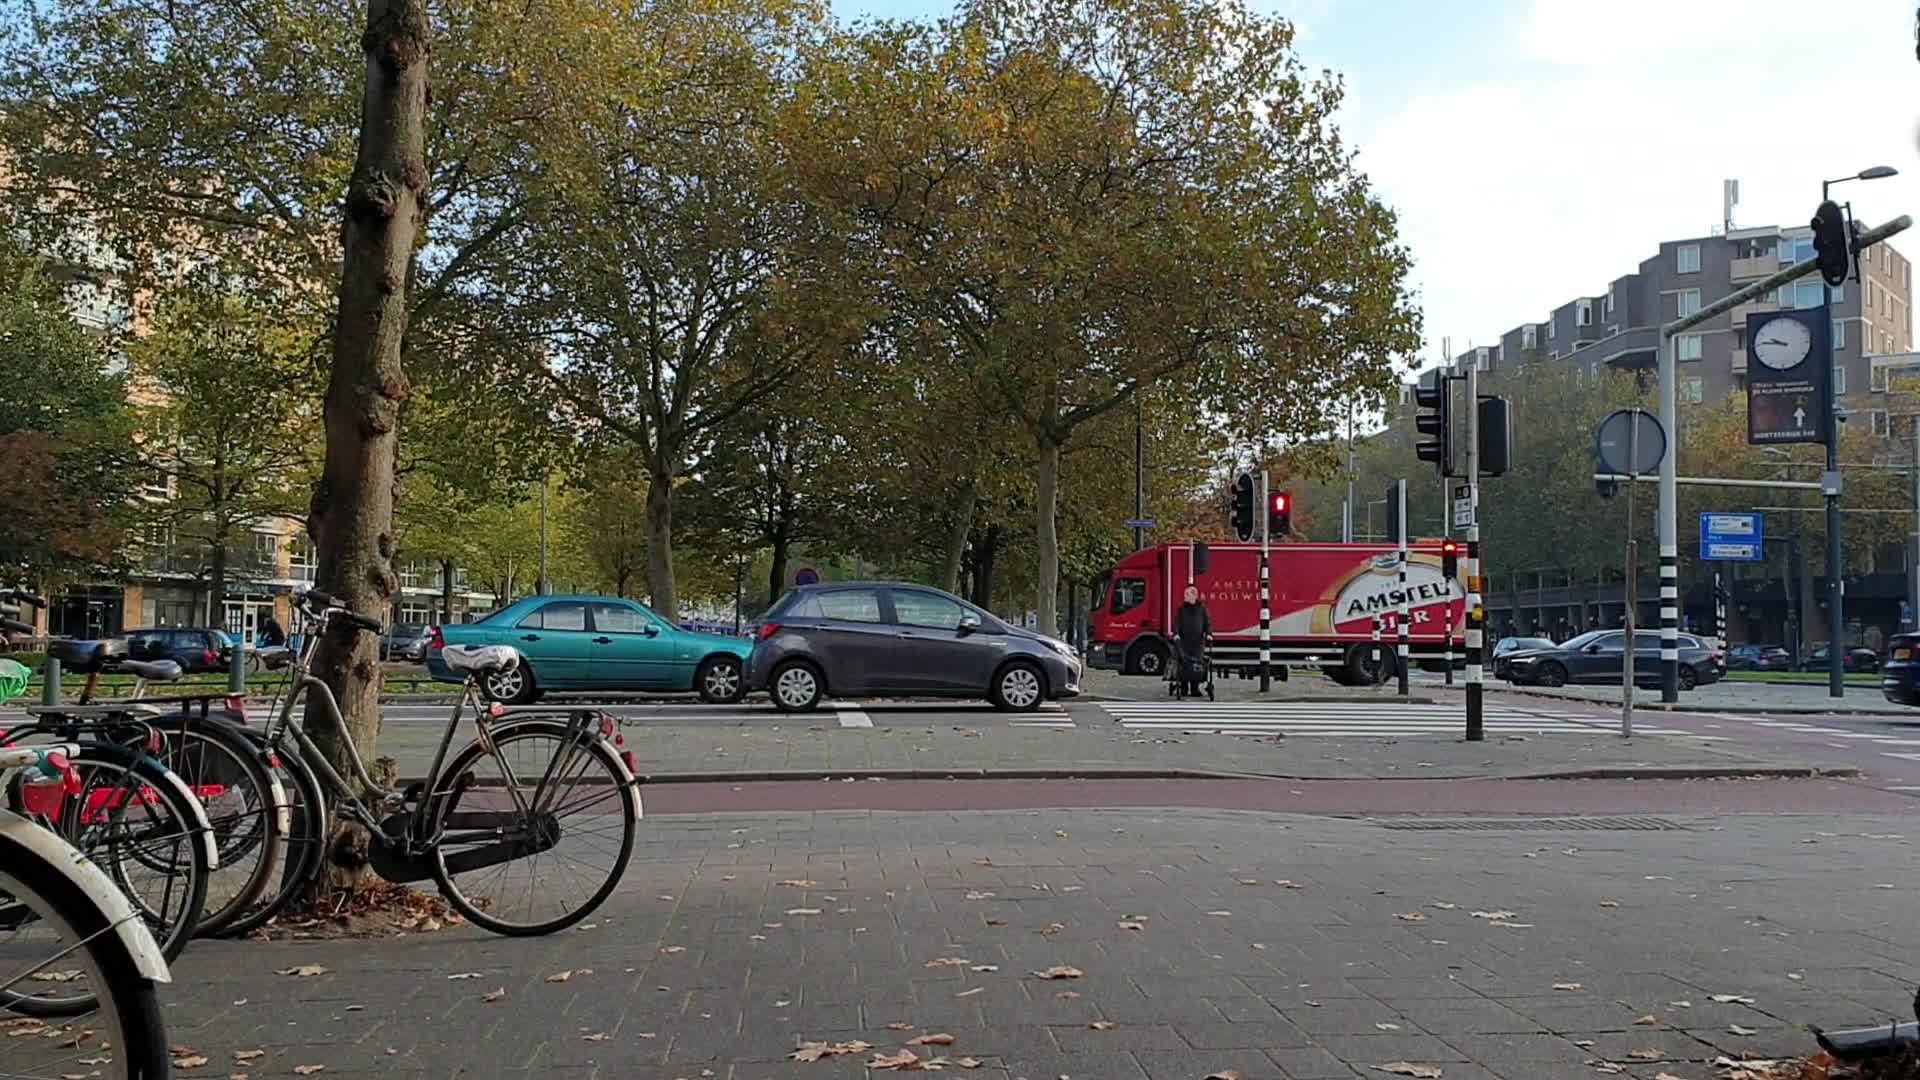car: (752, 576, 1083, 716), (430, 595, 761, 702)
